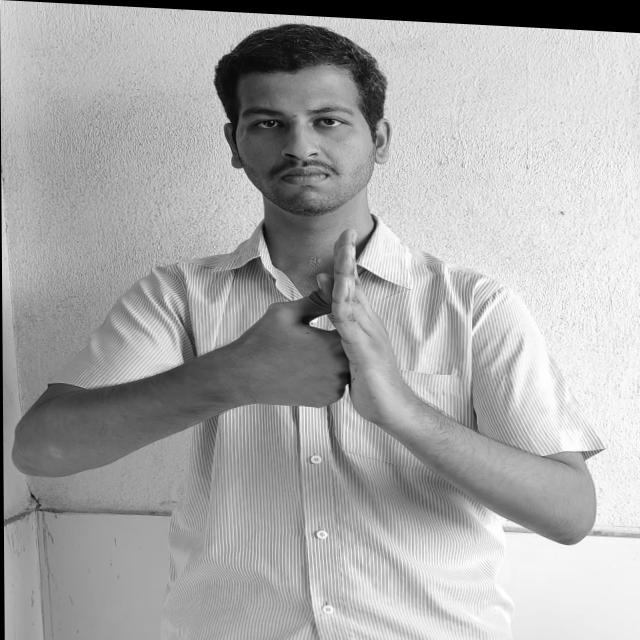Well Done: (234, 215, 409, 436)
